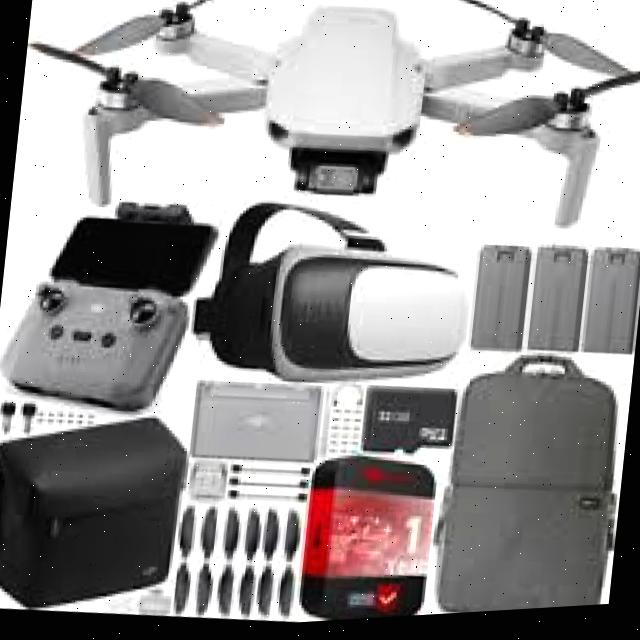drone: (10, 0, 640, 276)
